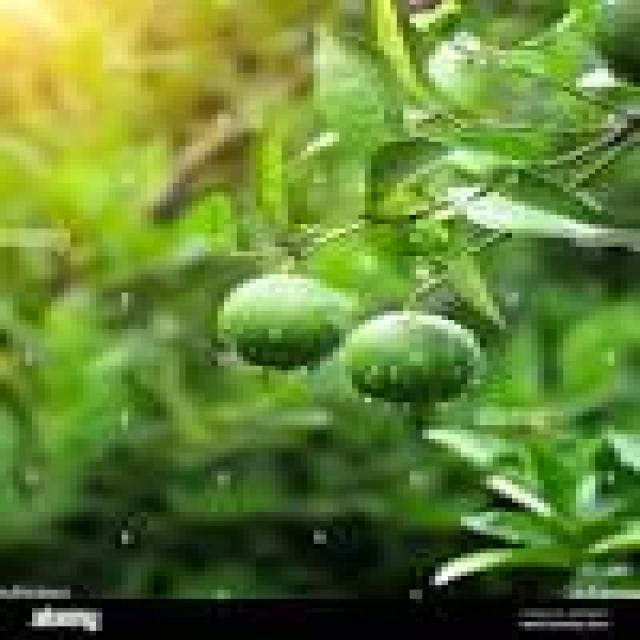orange: (339, 311, 480, 402), (218, 274, 346, 366)
